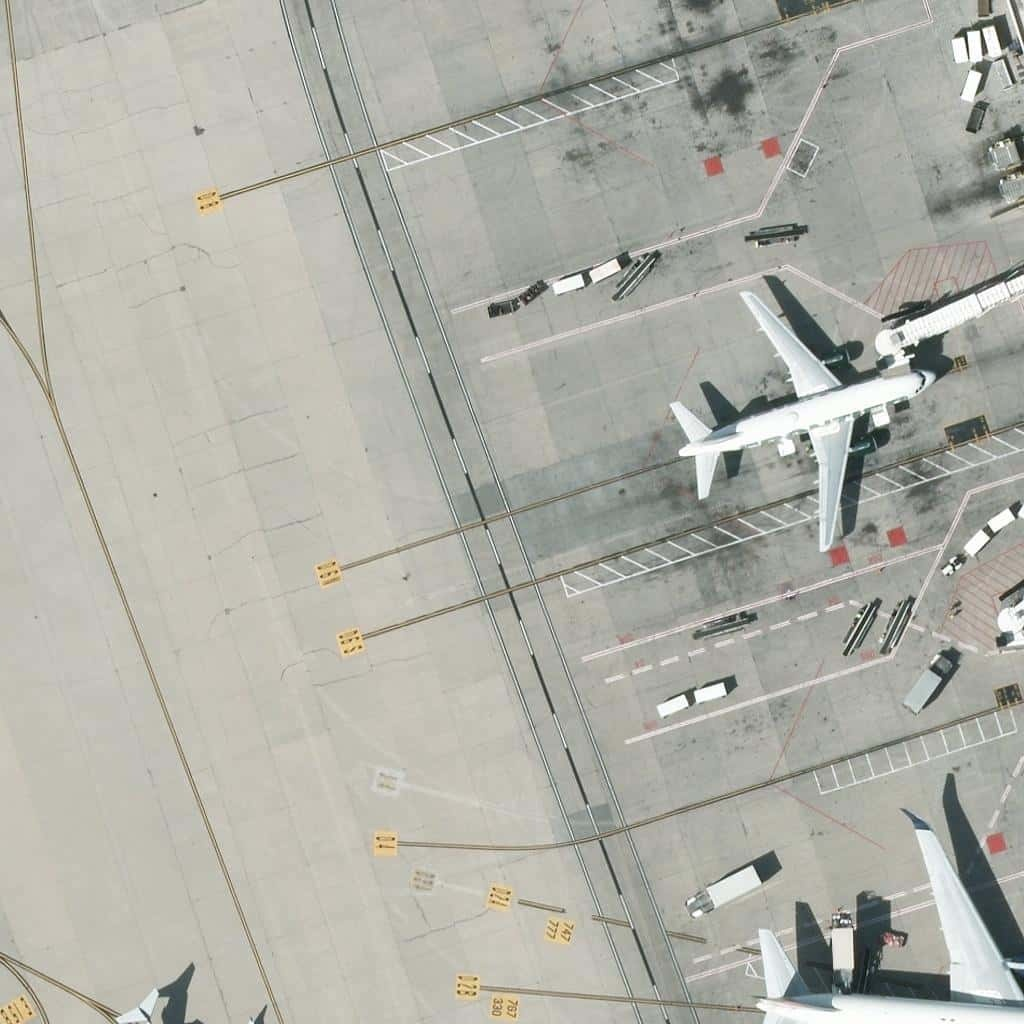plane: (662, 296, 937, 551), (746, 819, 1022, 1024)
